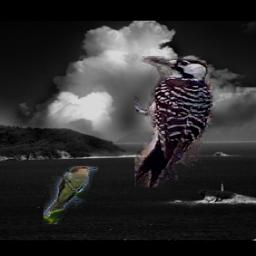Cuckoo: (42, 166, 97, 224)
Woodpecker: (135, 57, 213, 188)
